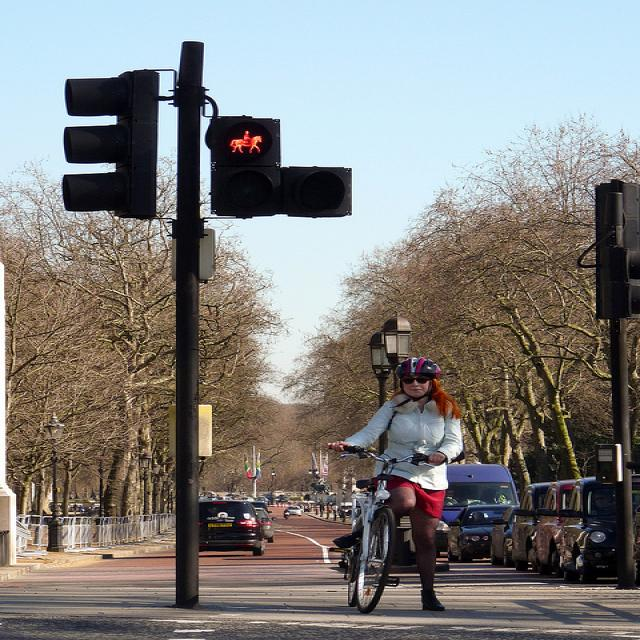Vehicle: (434, 464, 518, 556), (556, 477, 622, 583), (512, 482, 557, 572), (535, 479, 575, 576), (448, 504, 516, 560), (200, 500, 267, 556), (488, 499, 522, 568), (256, 508, 278, 543), (251, 502, 272, 514), (288, 506, 304, 517), (338, 506, 353, 516), (297, 502, 311, 512), (278, 495, 292, 502)
